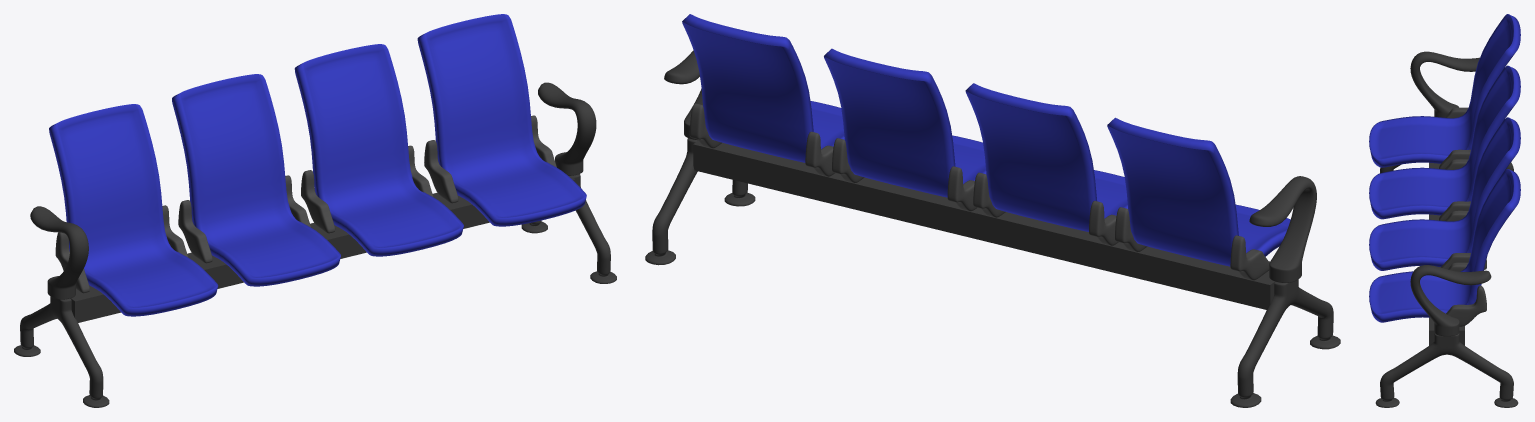
The model's file is hospital modern chair.fbx.
3 views of the same model, side by side, from view 1: azimuth 30°, elevation 25°; view 2: azimuth 150°, elevation 25°; view 3: azimuth 270°, elevation 25° (orthographic). The views are drawn at different scales.
Parts seen in each view (by area): view 1: Cube, Cube.011, Cube.009, Cube.002; view 2: Cube, Cube.002, Cube.011, Cube.009; view 3: Cube, Cube.011, Cube.009, Cube.002.
Part boxes in pixels (box(x1,y1,x2,y2)): Cube: box(49, 14, 586, 316); Cube.011: box(14, 82, 616, 407); Cube.009: box(55, 115, 556, 293); Cube.002: box(70, 176, 575, 322); Cube: box(682, 14, 1290, 266); Cube.002: box(693, 140, 1275, 309); Cube.011: box(645, 50, 1340, 407); Cube.009: box(689, 103, 1269, 280); Cube: box(1369, 14, 1520, 322); Cube.011: box(1375, 51, 1518, 407); Cube.009: box(1439, 107, 1486, 326); Cube.002: box(1429, 162, 1464, 345).
Size of the model in its own units: 1146 by 454 by 330.
